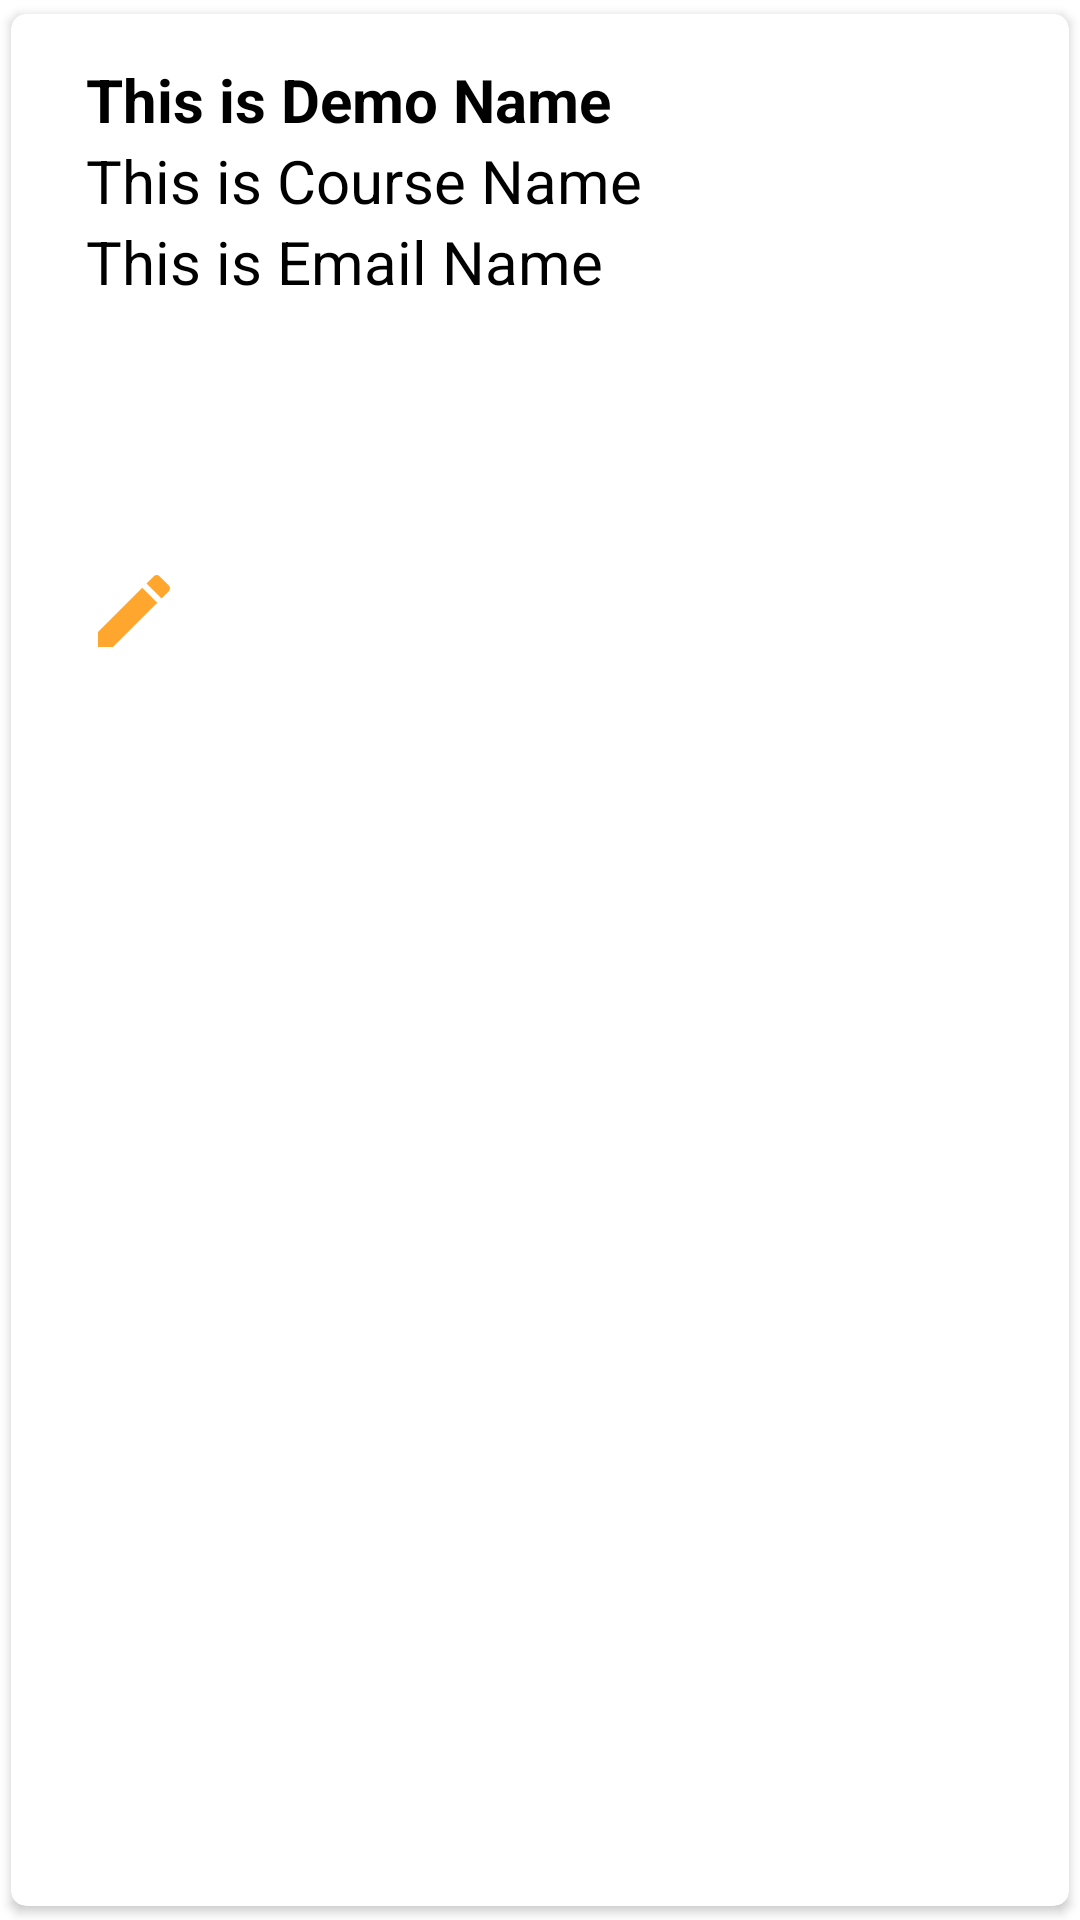

Icon bounding boxes for this 1080w x 1920h phone screenshot, format (x1, y1, x2, y2):
edit: (98, 575, 170, 647)
